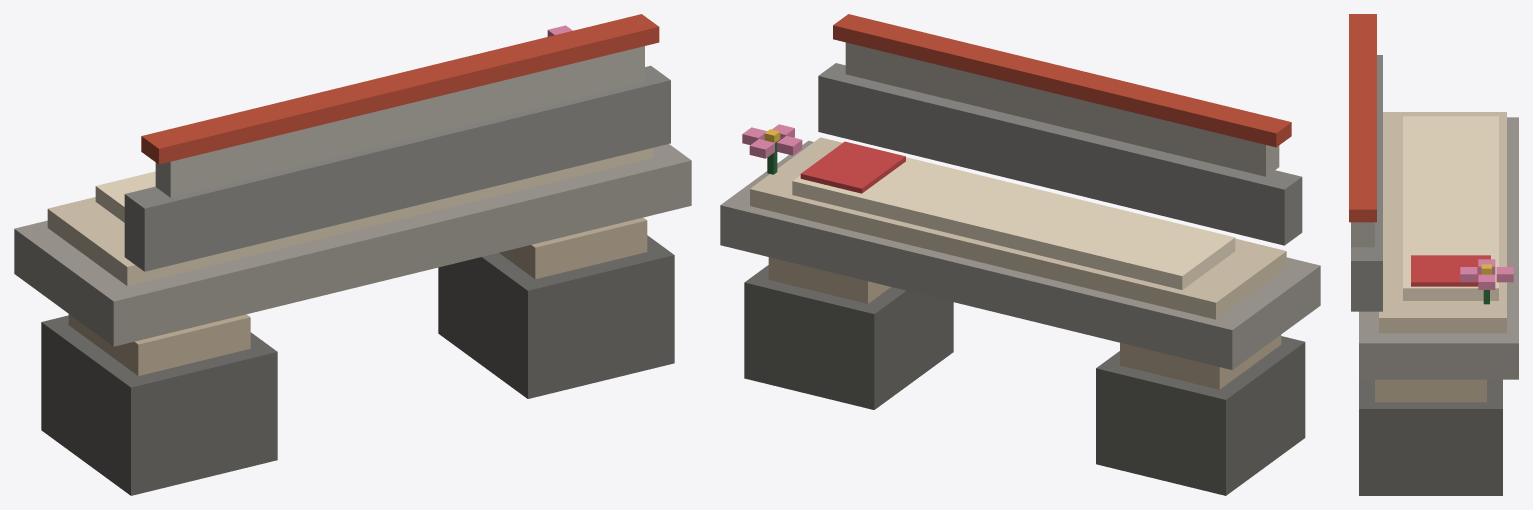
File: vn_deco_stone_bench.glb
3 views of the same model, side by side, from view 1: azimuth 30°, elevation 25°; view 2: azimuth 150°, elevation 25°; view 3: azimuth 270°, elevation 25° (orthographic). The views are drawn at different scales.
Parts seen in each view (by area): view 1: stone_bench_stone, stone_bench_cloth; view 2: stone_bench_stone, stone_bench_cloth; view 3: stone_bench_stone, stone_bench_cloth.
Boxes of the visible parts, left/top/right/bottom form: stone_bench_stone: left=14, top=14, right=691, bottom=495; stone_bench_cloth: left=95, top=25, right=572, bottom=222; stone_bench_stone: left=720, top=14, right=1320, bottom=495; stone_bench_cloth: left=742, top=124, right=1235, bottom=289; stone_bench_stone: left=1349, top=14, right=1518, bottom=495; stone_bench_cloth: left=1403, top=116, right=1513, bottom=304.
Bounding box in the file's own units: 1.34 × 0.7675 × 0.425.
